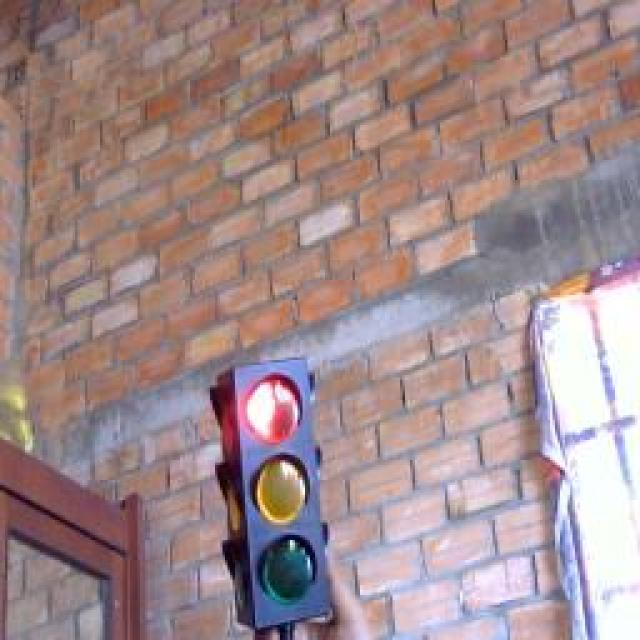-: (240, 365, 312, 447)
